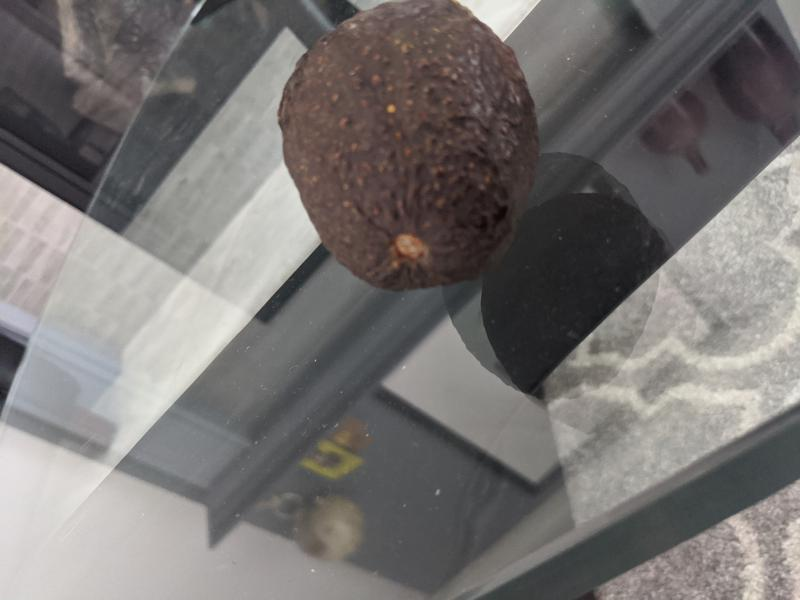avocado: (276, 1, 541, 291)
